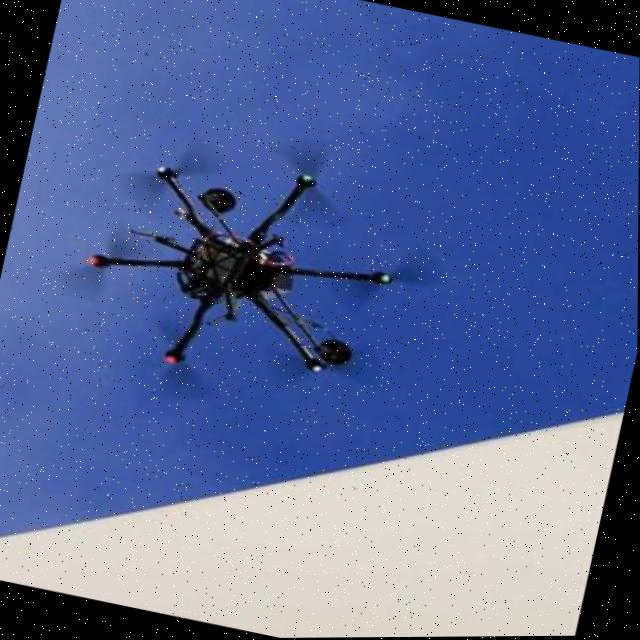drones: (14, 71, 471, 469)
